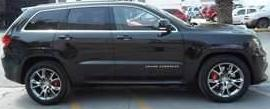side_glass: (21, 7, 180, 35)
